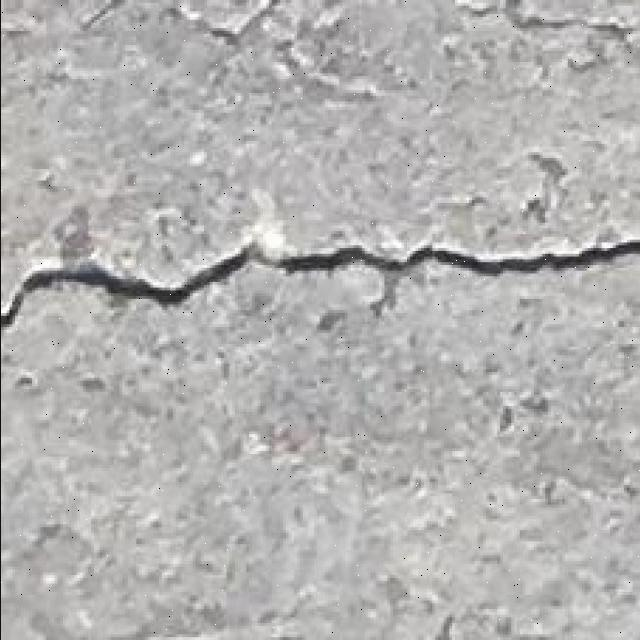crack: (51, 0, 640, 98), (1, 236, 638, 326), (18, 252, 247, 308), (5, 264, 112, 332), (264, 242, 407, 275), (494, 4, 640, 36)
